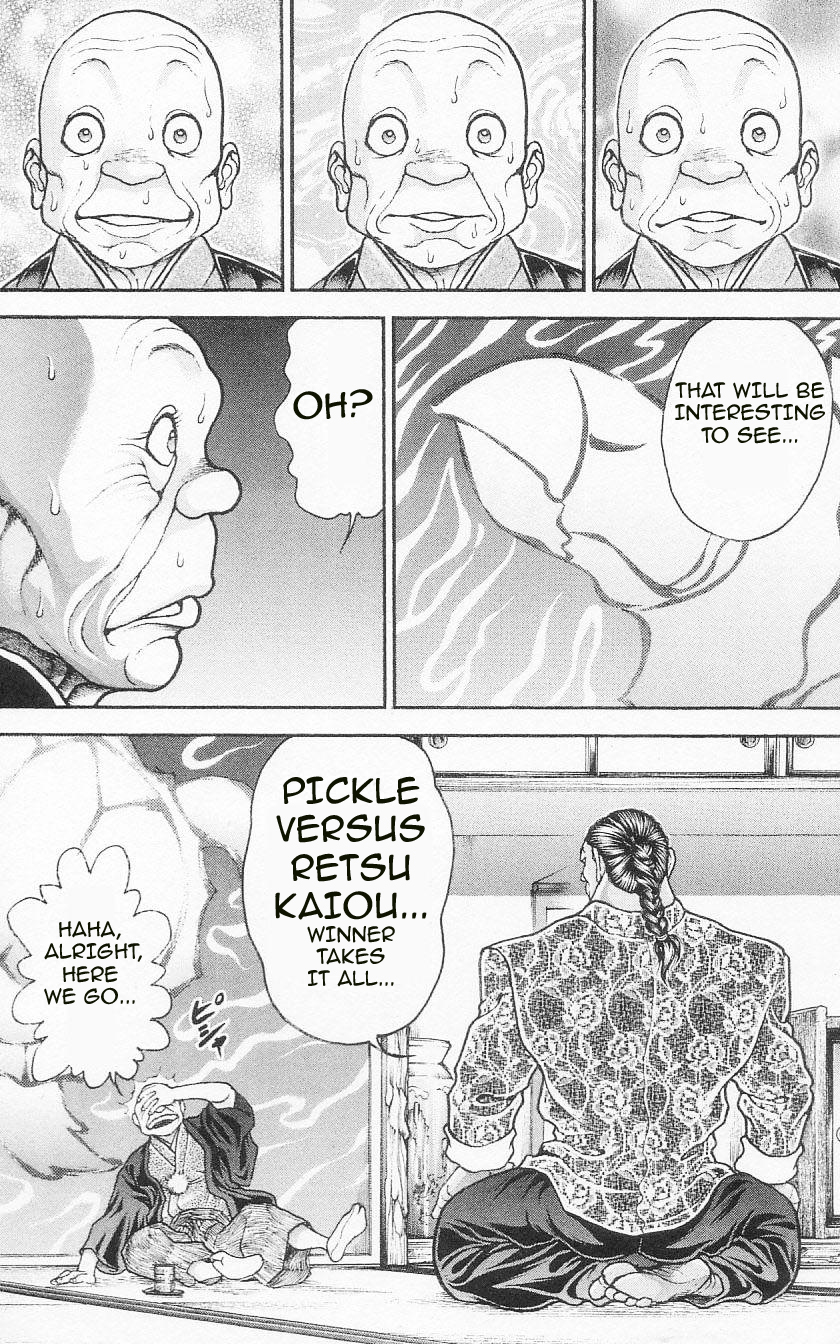Baloon: (231, 727, 459, 1039), (6, 849, 174, 1104), (663, 318, 823, 551), (278, 318, 394, 525)
Vignetta: (1, 731, 840, 1344), (394, 312, 840, 713), (1, 320, 384, 709), (298, 1, 585, 298), (1, 1, 286, 292), (592, 1, 840, 296)
